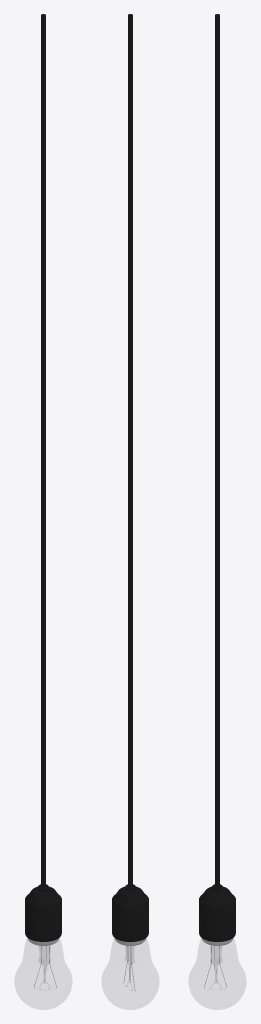
Rendered from luz_bombilla_casquillo.glb.
The picture shows the model from 3 angles, left to right: view 1: azimuth 90°, elevation 25°; view 2: azimuth 210°, elevation 25°; view 3: azimuth 270°, elevation 25°; orthographic projection.
Parts seen in each view (by area): view 1: ALL_LAMP_glass_0; view 2: ALL_LAMP_glass_0; view 3: ALL_LAMP_glass_0.
Boxes of the visible parts, box(x1,y1,x2,y2) form: ALL_LAMP_glass_0: box(25, 14, 61, 1006); ALL_LAMP_glass_0: box(112, 14, 148, 992); ALL_LAMP_glass_0: box(199, 14, 235, 1006).
Bounding box in the file's own units: 0.016 × 0.3 × 0.016.
Materials: 2 (2 with a texture image).
